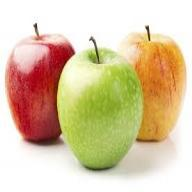apple: (53, 46, 142, 169), (120, 30, 186, 148), (6, 34, 77, 138)
